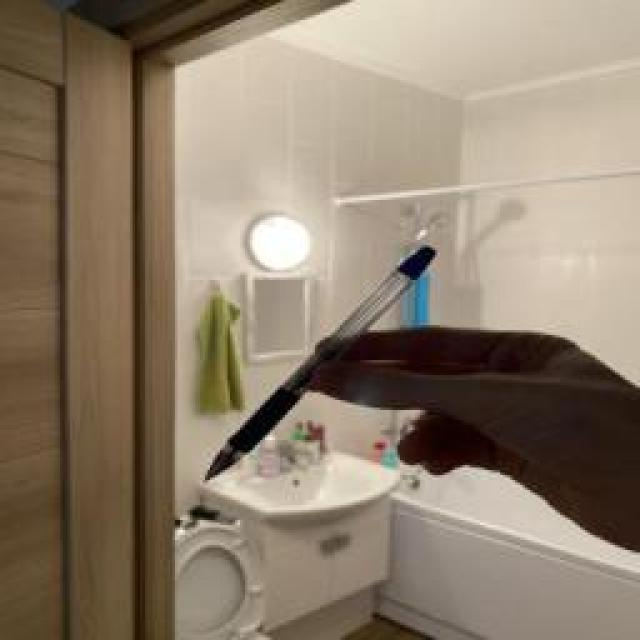pen: (199, 243, 437, 486)
